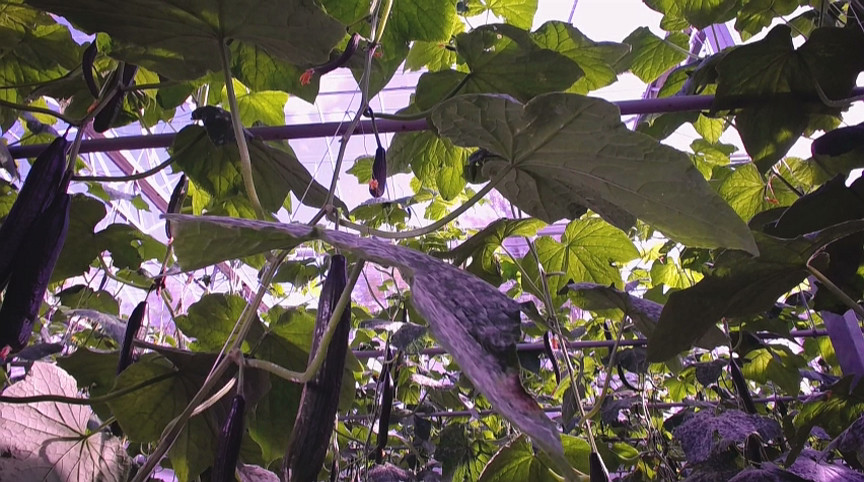cucumber: (286, 254, 348, 481), (4, 192, 73, 354), (116, 302, 152, 372), (367, 146, 390, 195)
